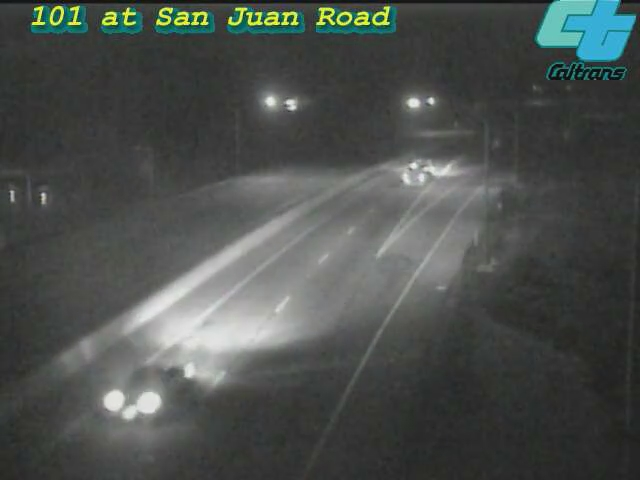vehicle: (90, 339, 200, 449), (379, 131, 459, 211)
